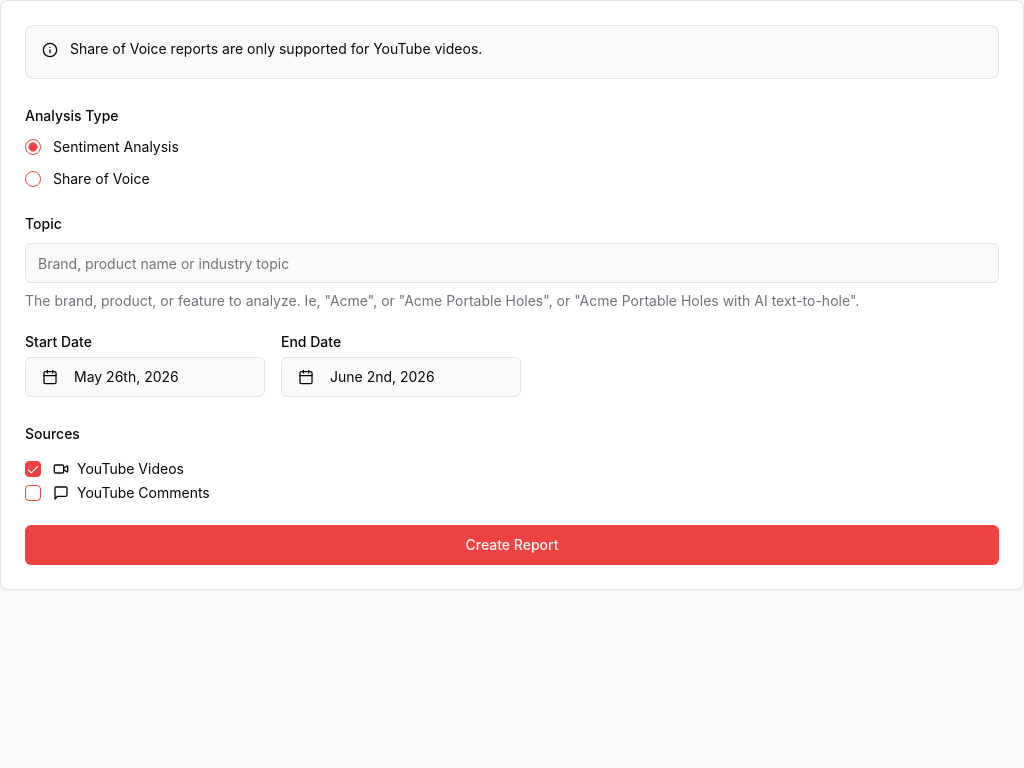
Test: CreateReportForm › should display validation errors for invalid submission
Click the button "Create Report" at (512, 545), box x1=25 y1=525 x2=999 y2=565
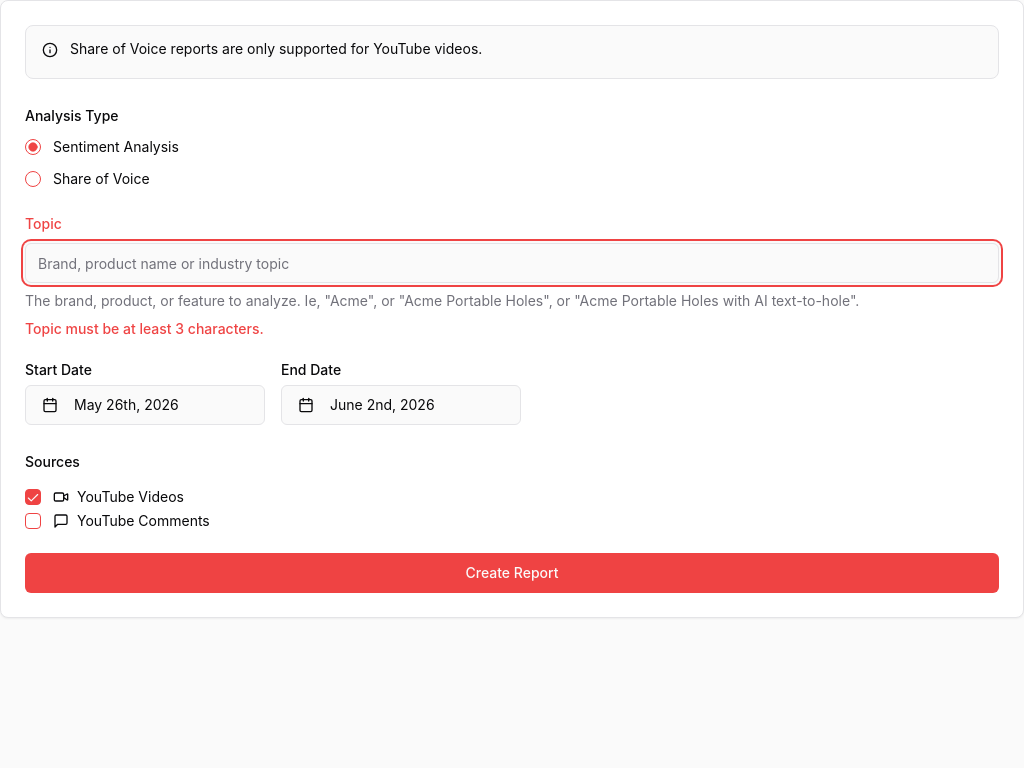
Now the text "Topic must be at least 3 characters." is shown, box x1=25 y1=320 x2=264 y2=337
